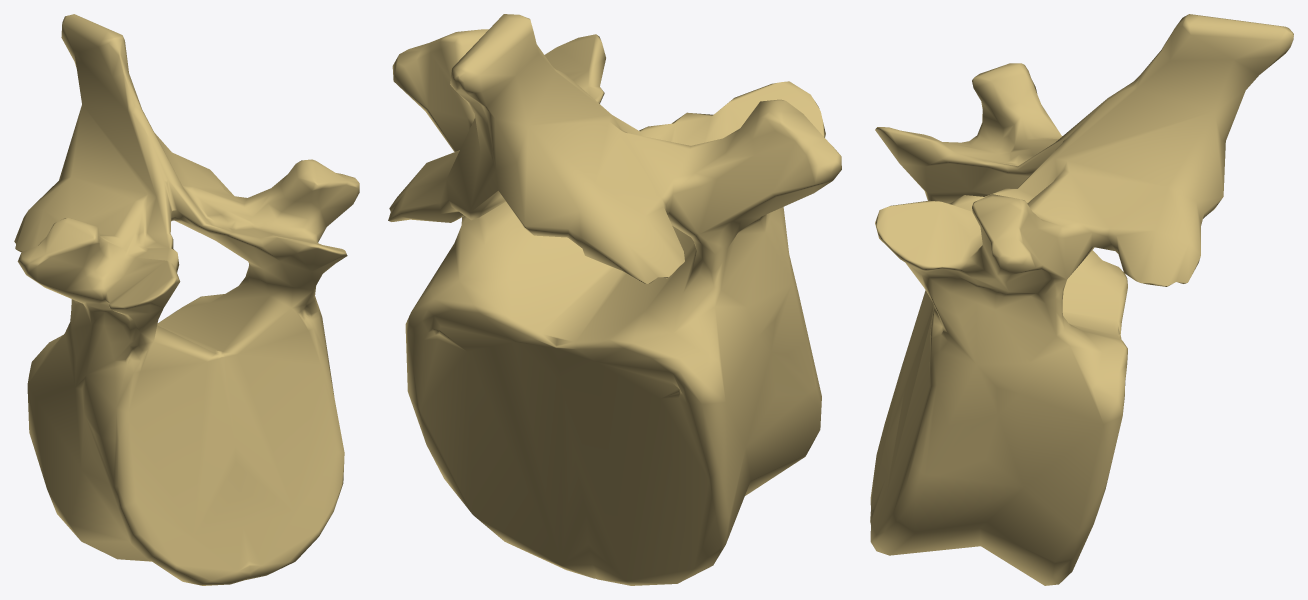
3 renders of one model, left to right at view 1: azimuth 30°, elevation 25°; view 2: azimuth 150°, elevation 25°; view 3: azimuth 270°, elevation 25°, orthographic. The views are drawn at different scales.
Parts seen in each view (by area): view 1: 第十一胸椎; view 2: 第十一胸椎; view 3: 第十一胸椎.
Part boxes in pixels (x1=…): 第十一胸椎: x1=14, y1=14, x2=359, y2=585; 第十一胸椎: x1=388, y1=14, x2=841, y2=585; 第十一胸椎: x1=870, y1=14, x2=1293, y2=585.
Size of the model in its own units: 0.0856 by 0.1159 by 0.081.
